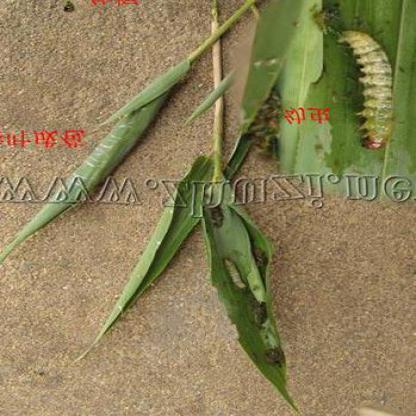leaf-folder: (326, 19, 398, 163), (211, 246, 255, 310)
